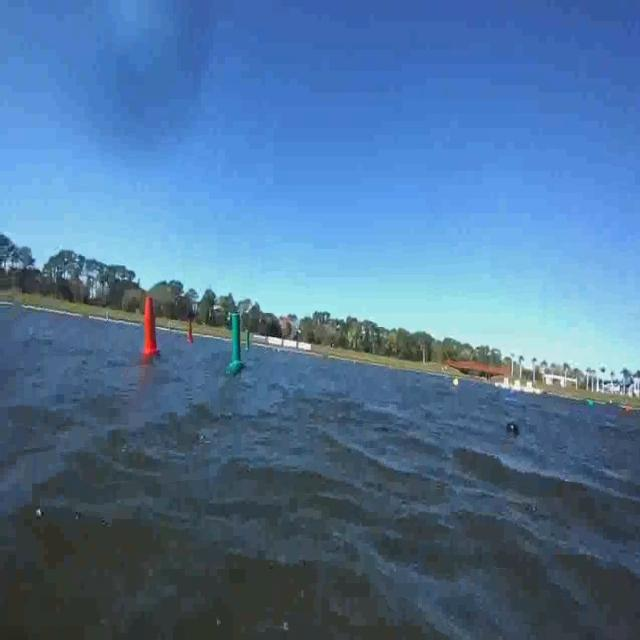blue-buoy: (505, 420, 520, 441)
green-column-buoy: (230, 312, 246, 369), (243, 330, 249, 351)
red-column-buoy: (142, 296, 159, 357), (187, 324, 194, 346)
yellow-buoy: (453, 377, 461, 389)
